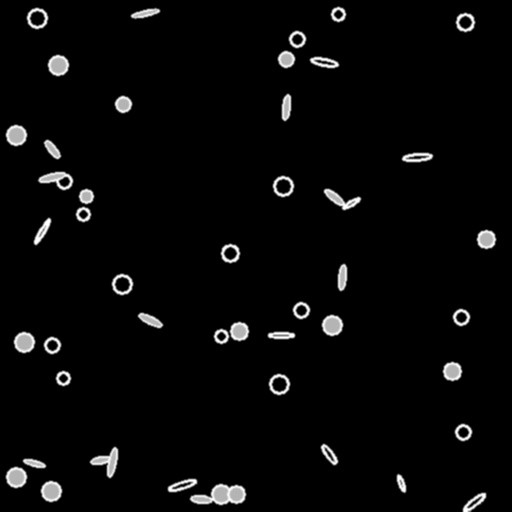pseudomonas: (462, 491, 486, 512), (167, 477, 197, 493), (33, 218, 51, 244), (323, 187, 345, 207), (320, 443, 338, 465), (138, 312, 162, 328), (43, 139, 61, 159), (106, 448, 118, 476), (310, 56, 338, 68), (39, 171, 65, 183), (131, 8, 159, 18), (342, 196, 360, 210), (402, 153, 432, 161), (338, 264, 346, 290), (90, 455, 110, 465), (24, 458, 44, 468), (282, 95, 290, 119), (396, 475, 406, 491), (191, 495, 211, 503), (268, 332, 293, 338)
synechocystis: (113, 275, 131, 293), (42, 482, 60, 500), (212, 485, 230, 503), (270, 375, 288, 393), (49, 56, 67, 74), (7, 126, 25, 144), (15, 333, 33, 351), (323, 316, 341, 334), (274, 177, 292, 195), (7, 468, 25, 486), (28, 9, 46, 27), (444, 363, 460, 379), (457, 14, 473, 30), (222, 245, 238, 261), (478, 231, 494, 247), (228, 486, 244, 502), (231, 323, 247, 339), (456, 425, 470, 439), (454, 310, 468, 324), (290, 32, 304, 46), (45, 338, 59, 352), (57, 174, 71, 188), (116, 97, 130, 111), (294, 303, 308, 317), (279, 52, 293, 66), (57, 372, 69, 384), (215, 330, 227, 342), (77, 208, 89, 220), (332, 8, 344, 20), (80, 190, 92, 202)
